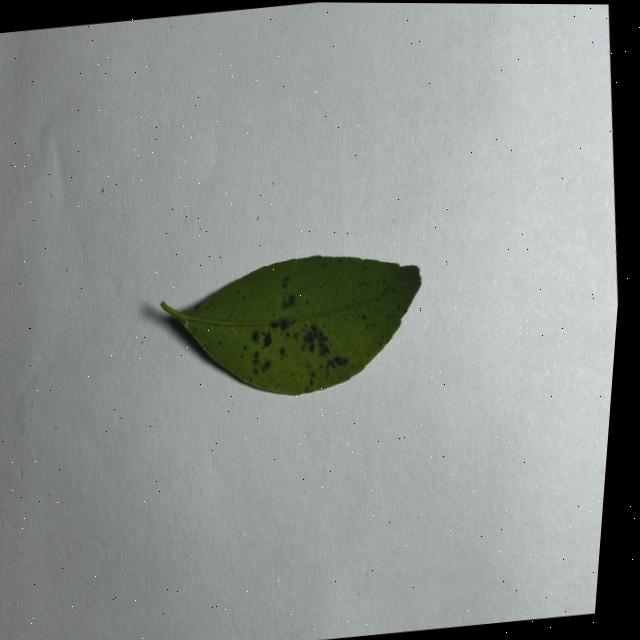sooty_mold: (162, 254, 420, 394)
